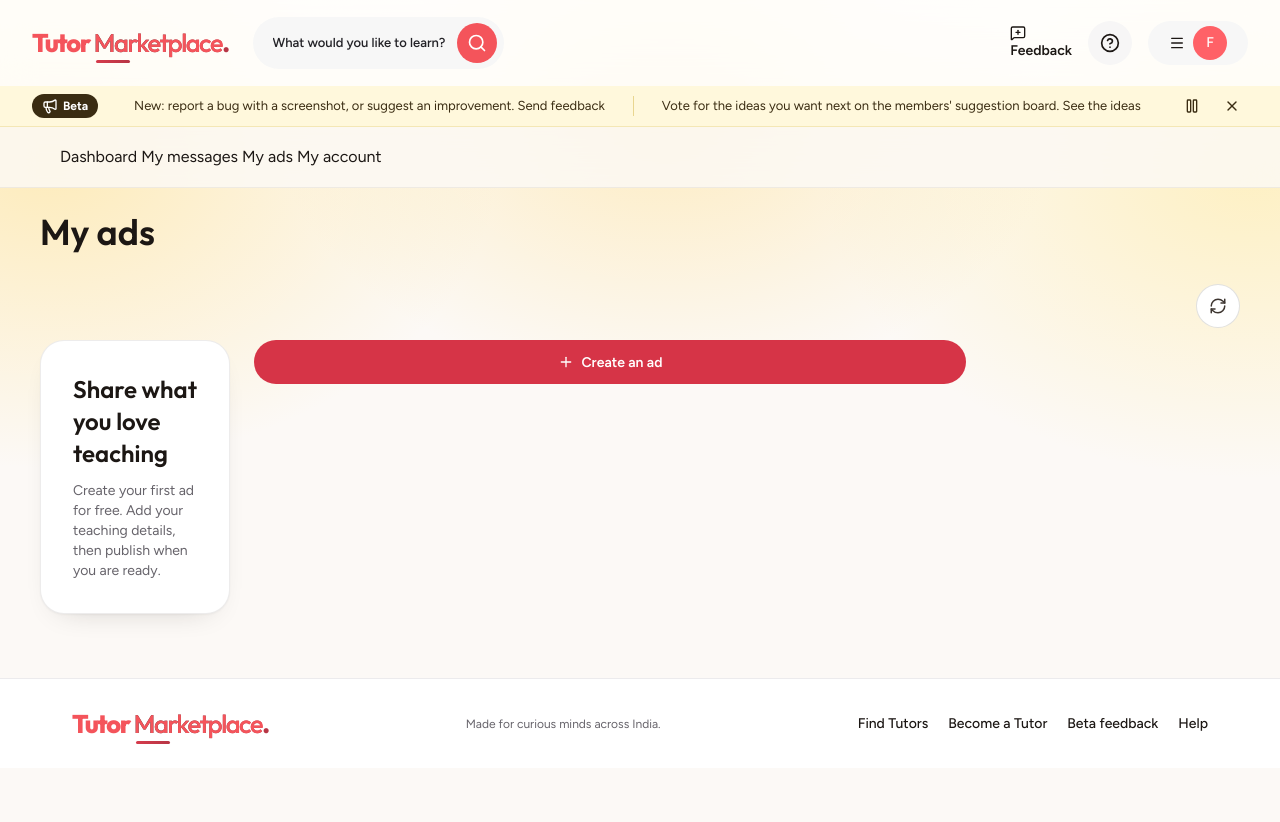
Test case: keeps the 12-word rule when using Preview my ad
Step 1. Click the button "Create an ad" → click(610, 362), box [254, 340, 966, 384]
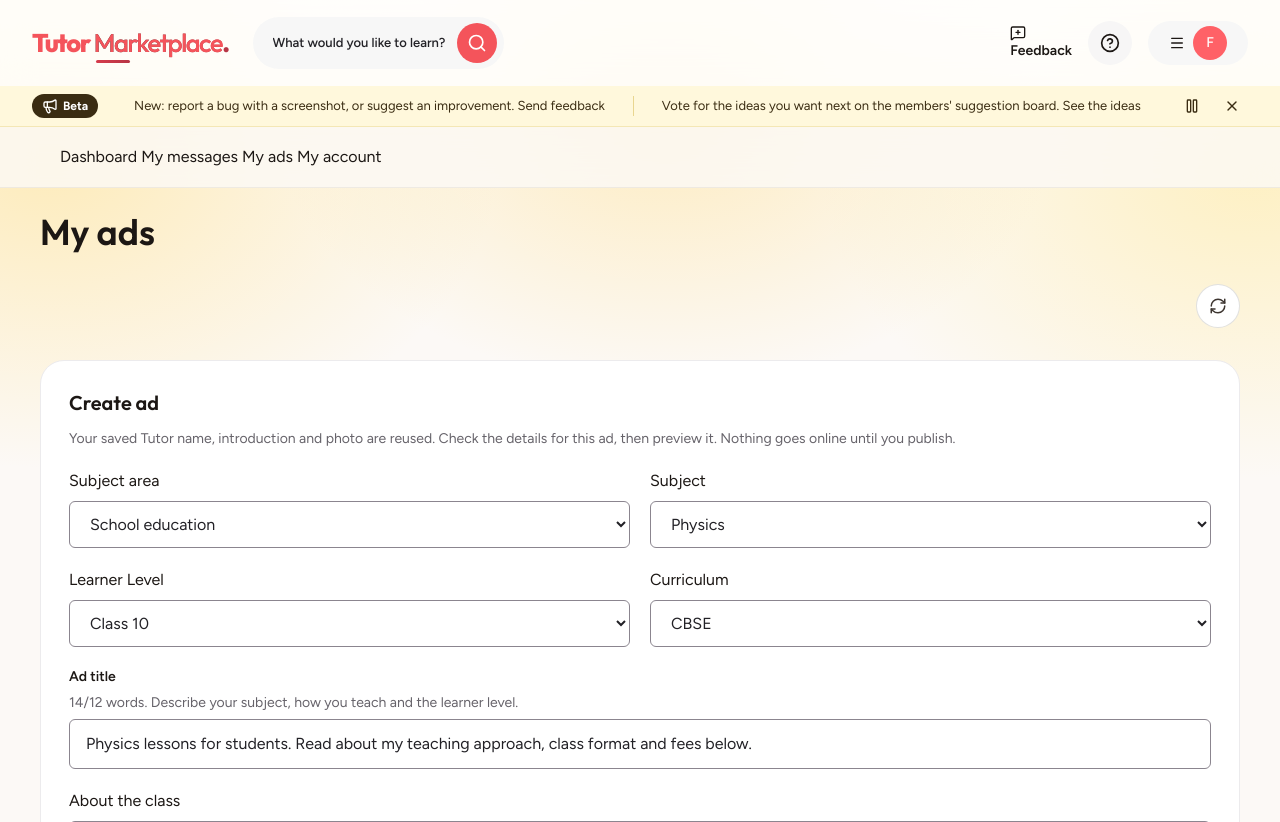
Step 2. Replace the text in the field labelled "Ad title" with "Four short title words" → (640, 744), box [69, 719, 1211, 769]
(page scrolled)
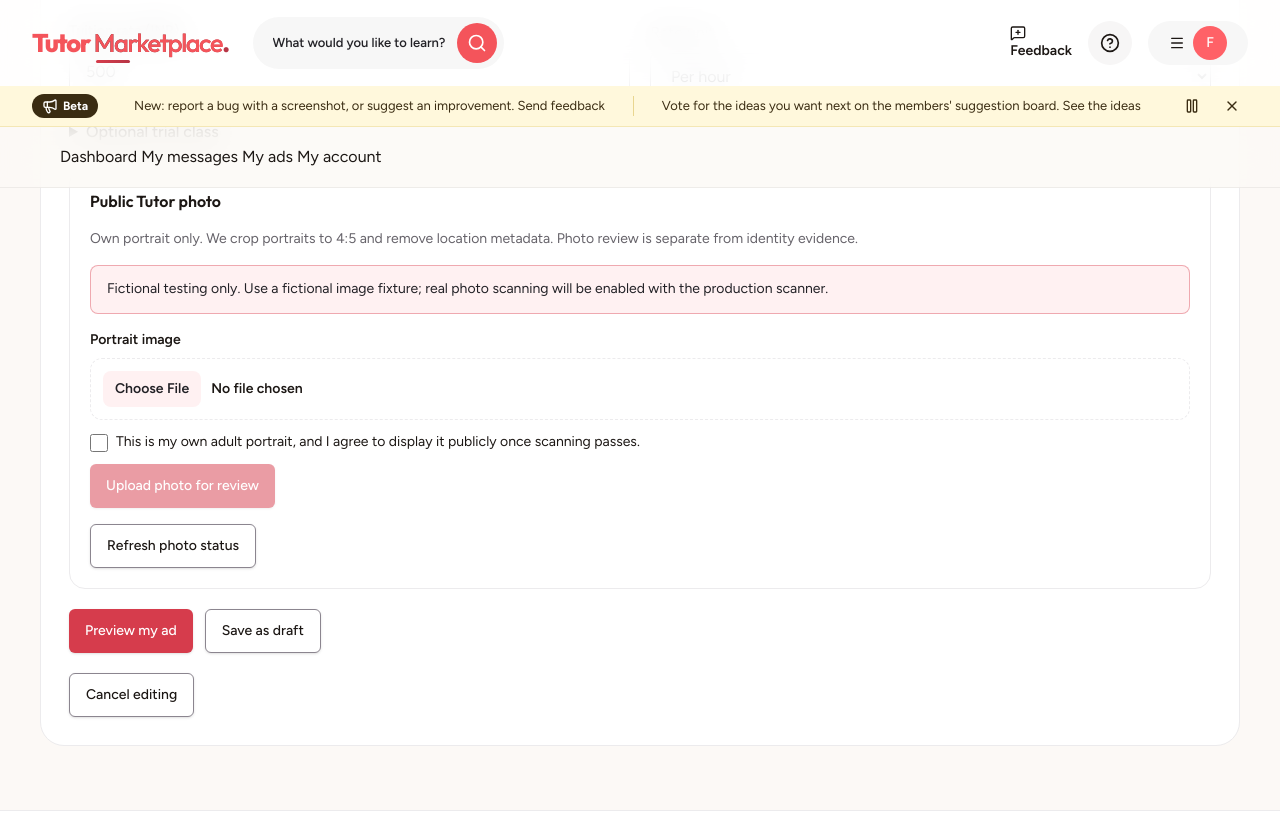
Step 3. Click the button "Preview my ad" → click(131, 631), box [69, 609, 193, 653]
(page scrolled)
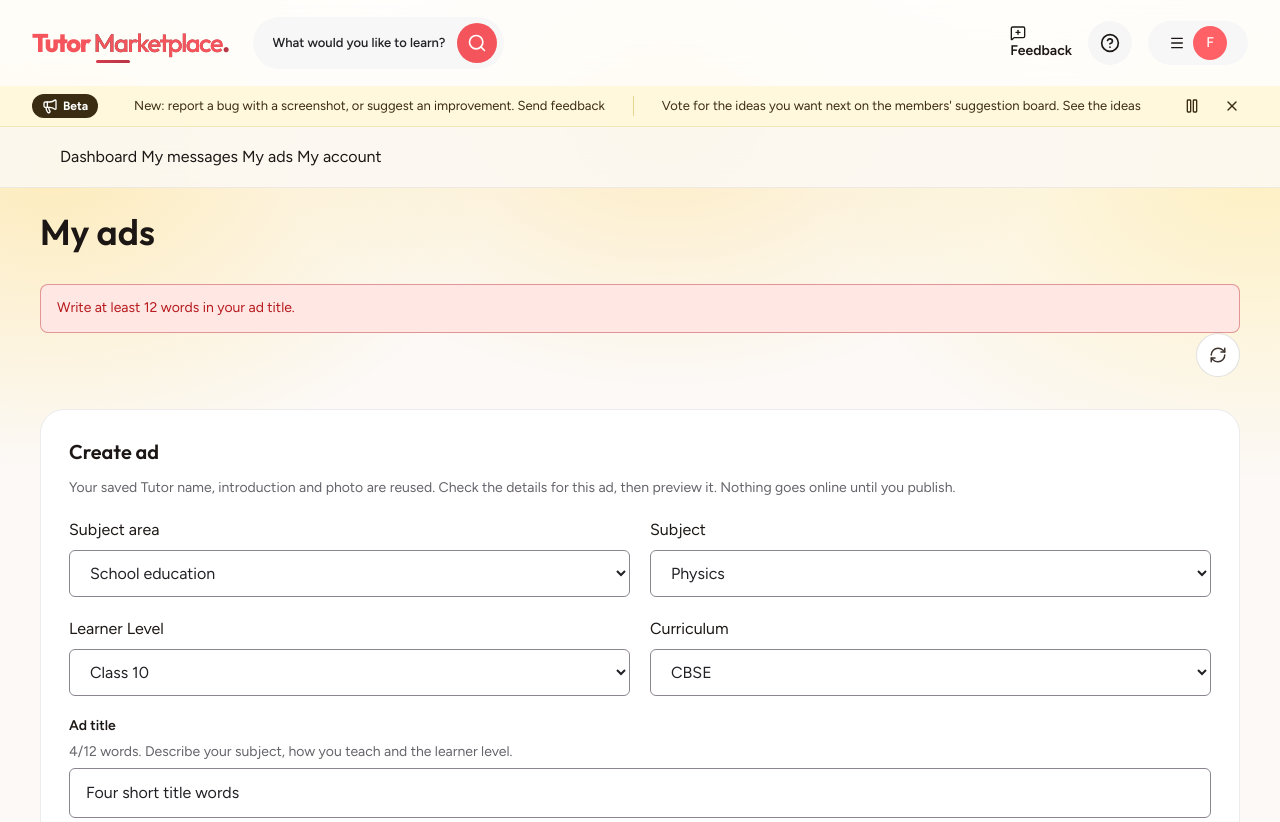
Result: the text "Write at least 12 words in your ad title." is shown at [40, 284, 1240, 333]
